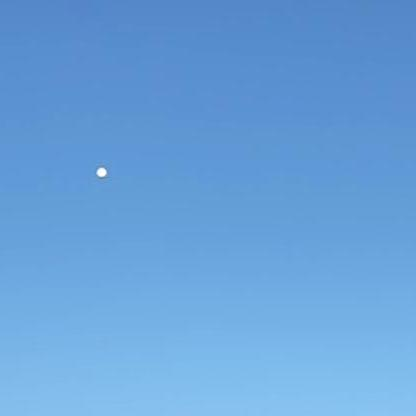golfball: (93, 164, 107, 178)
